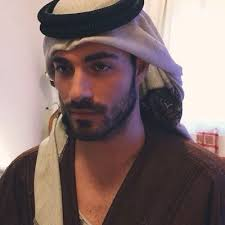middle_eastern_male: (52, 37, 138, 137)
